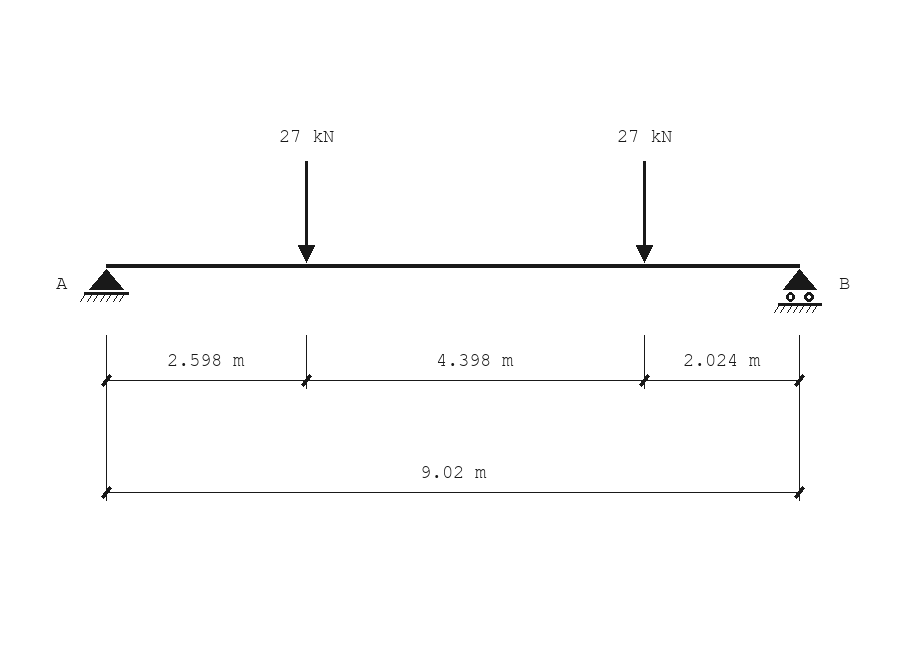pin_support: (80, 269, 129, 302)
point_load: (298, 161, 315, 263), (636, 161, 653, 263)
roller_support: (774, 269, 822, 313)
